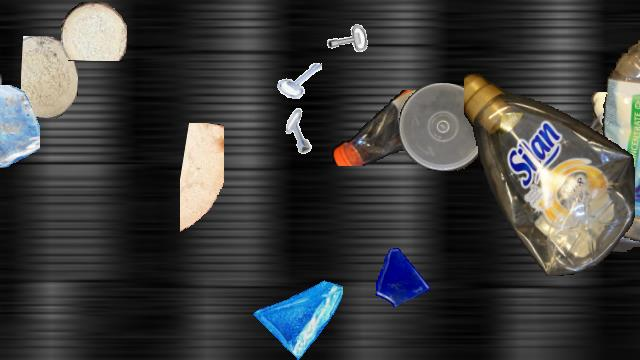glass: (252, 269, 342, 359), (370, 245, 432, 307), (0, 85, 39, 167)
metal: (315, 2, 371, 58), (278, 108, 324, 154), (277, 59, 321, 103)
plastic: (464, 66, 634, 276), (584, 1, 640, 251), (330, 90, 476, 166), (577, 92, 640, 252), (399, 83, 487, 171), (0, 29, 3, 115)
wood: (180, 123, 224, 239), (21, 36, 77, 118), (61, 2, 127, 60)
